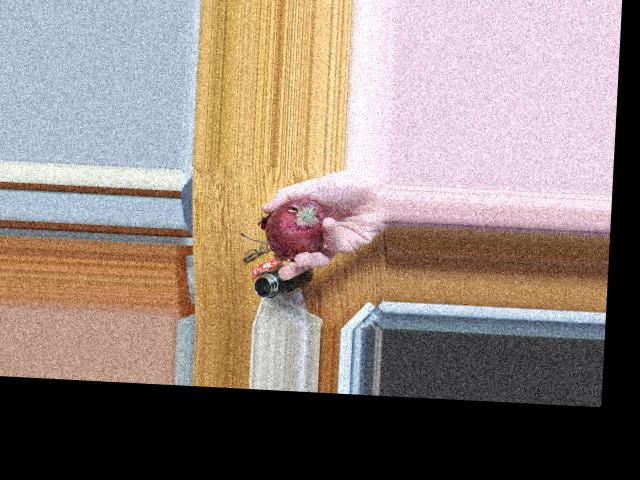onion: (266, 197, 329, 254)
